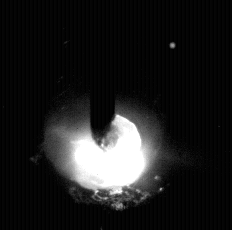arame: (91, 0, 116, 150)
poca: (44, 0, 163, 230)
